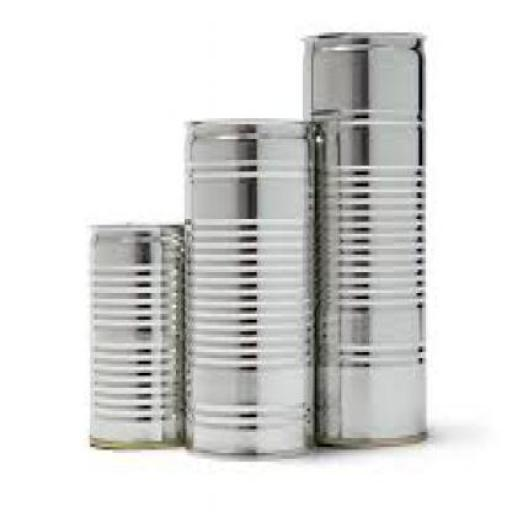metal: (298, 30, 428, 446), (183, 115, 315, 462), (88, 221, 186, 453)
